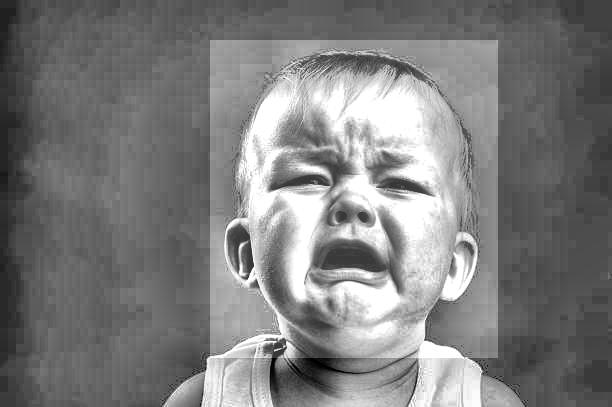sad: (210, 40, 498, 358)
